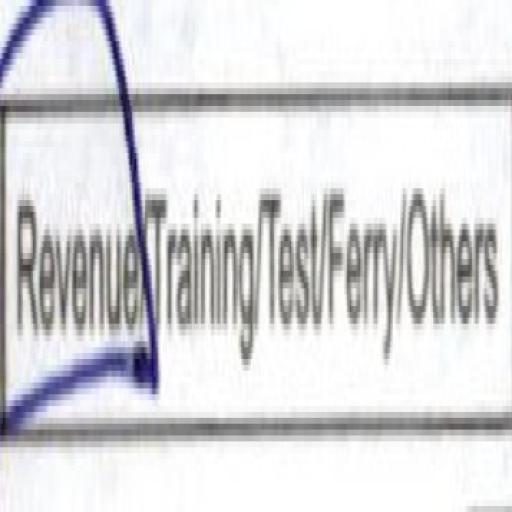check: (0, 0, 140, 469)
